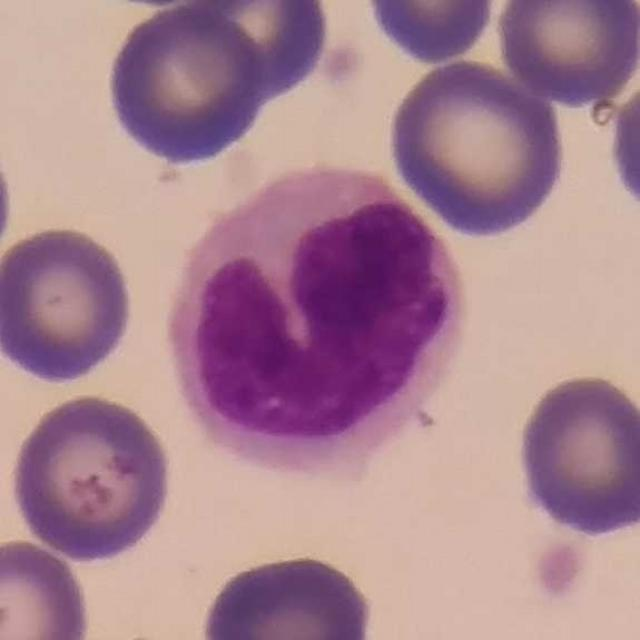Monocyte: (161, 152, 472, 488)
Platelets: (529, 527, 597, 597)
RBC: (383, 55, 571, 242), (100, 1, 284, 169), (6, 390, 178, 566), (0, 220, 139, 388), (510, 368, 640, 541), (157, 0, 336, 106), (193, 547, 380, 640), (491, 0, 640, 108), (356, 0, 508, 68), (0, 535, 95, 640), (604, 71, 640, 225)
